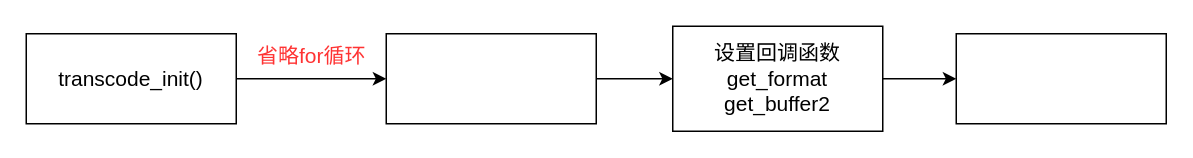
Some shapes in this 1193 by 158 pixel diagram are drawn without their labels. Each missing label, with the box of its shape:
init_input_stream(): (385, 32, 596, 124)
打开解码器 avcodec_open2(): (955, 32, 1166, 124)
